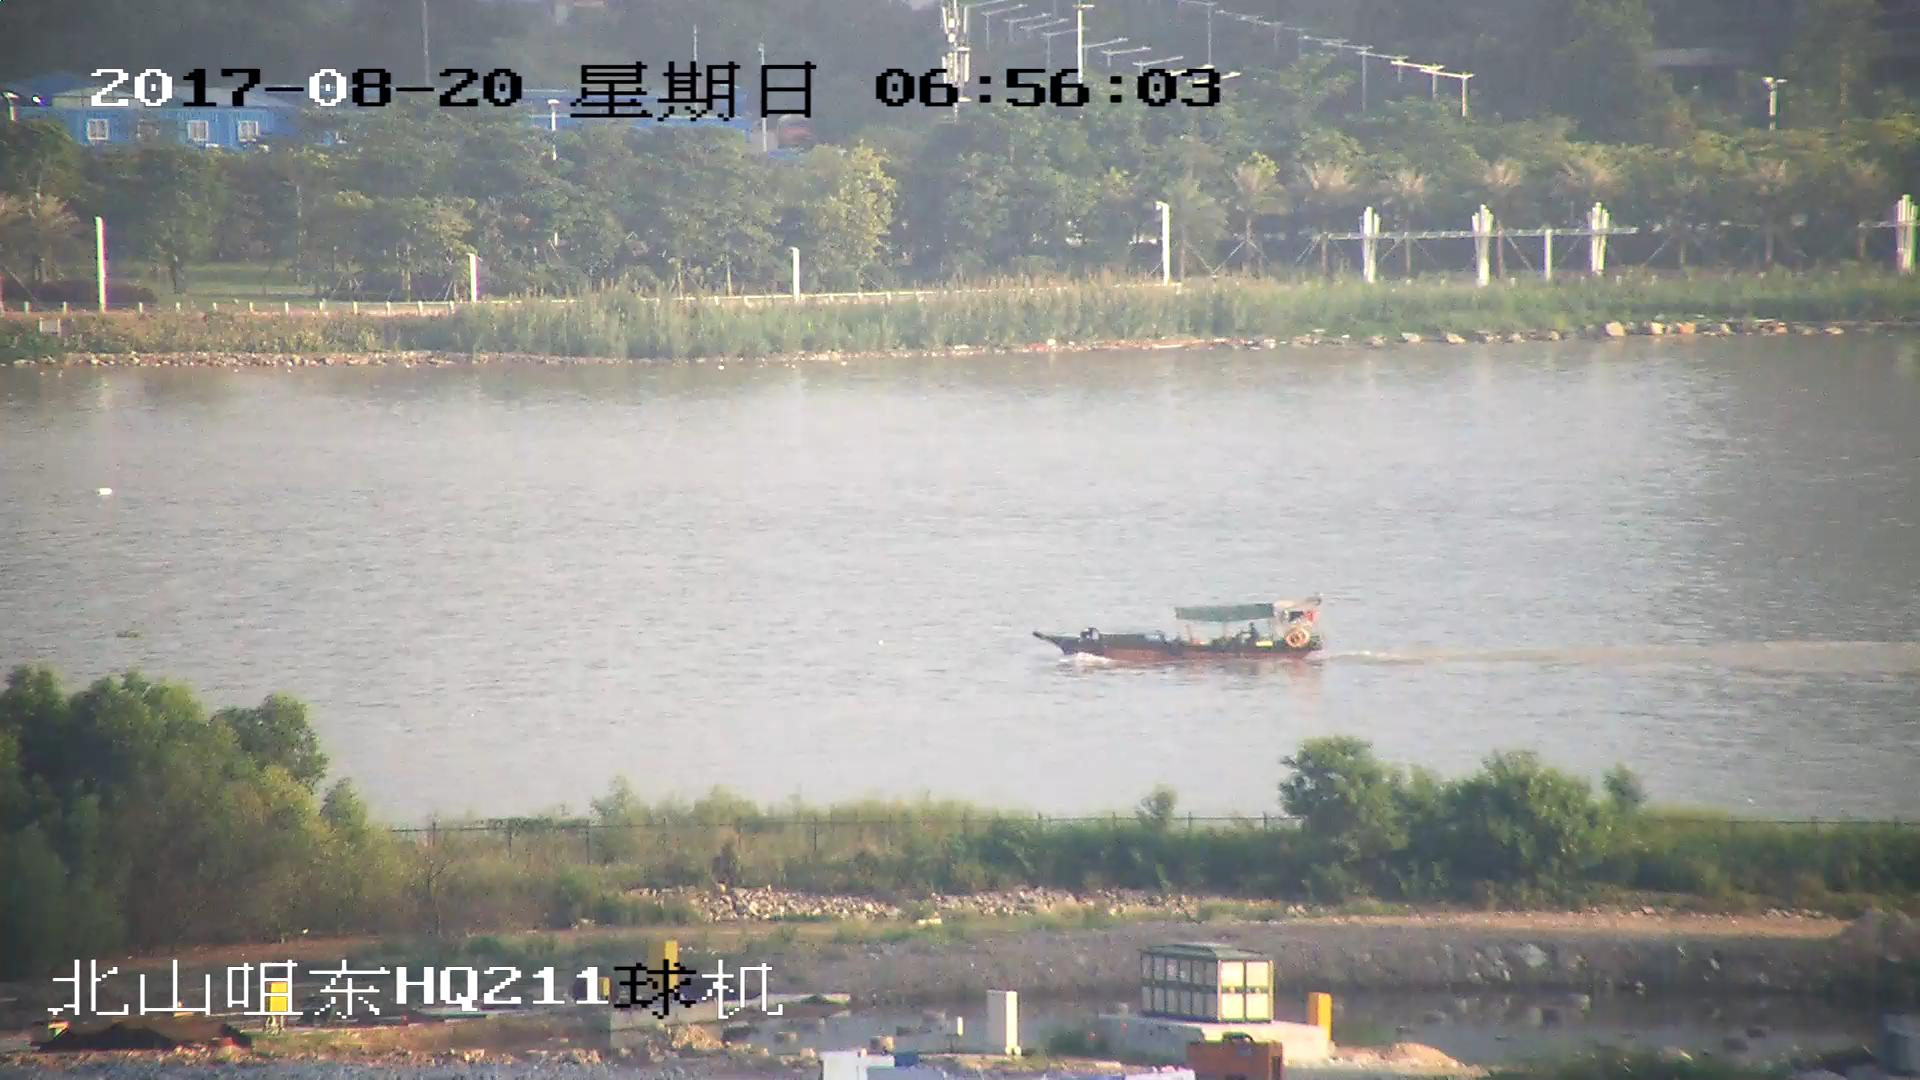fishing boat: (1035, 603, 1327, 664)
